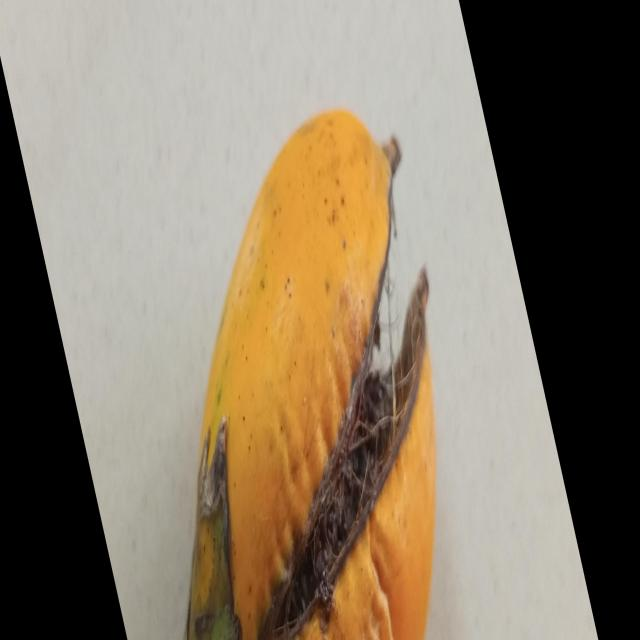damaged: (184, 110, 436, 640)
